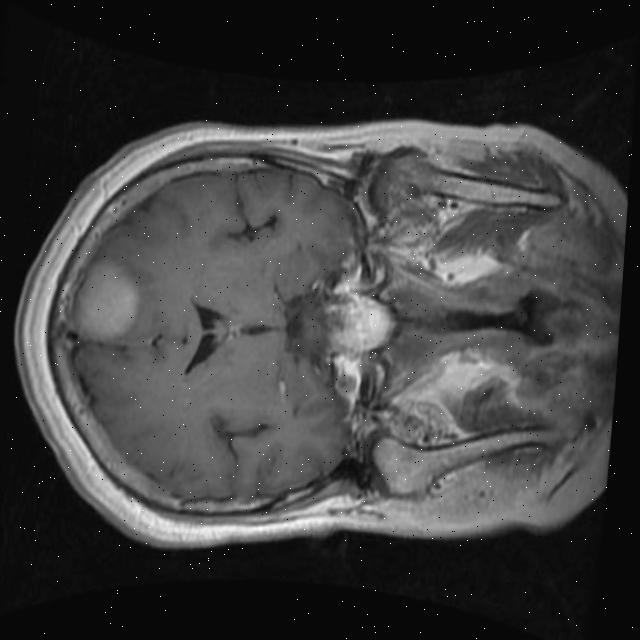Meningioma: (73, 254, 142, 342)
Pituitary: (332, 289, 397, 352)
